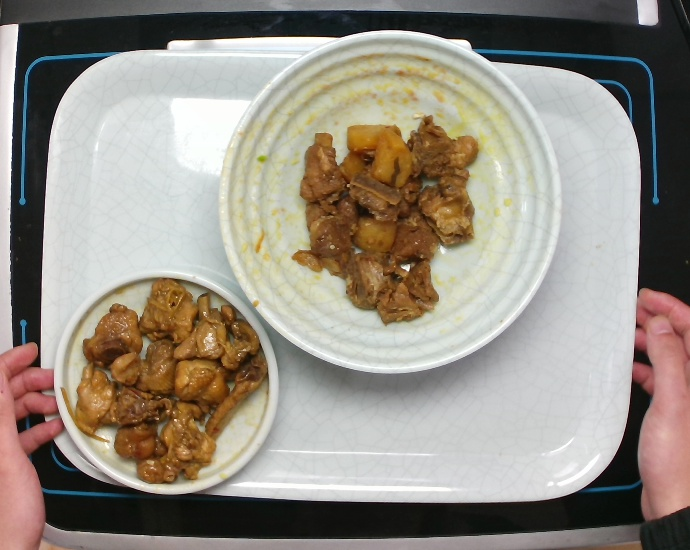JYsf-Da_Tang_Wan: (217, 32, 567, 378)
JYsf-Xiao_Yuan_Pan: (51, 265, 287, 497)
